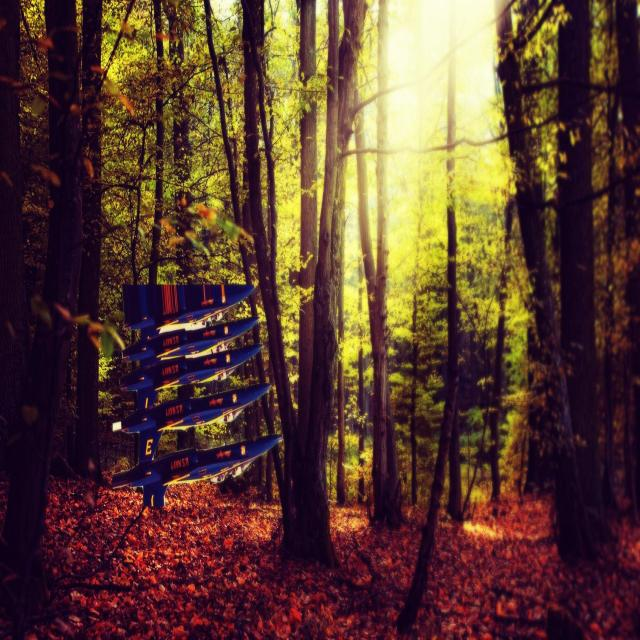airplane: (111, 433, 282, 509), (111, 382, 272, 462), (119, 342, 263, 409), (122, 281, 255, 332), (121, 314, 260, 362)
